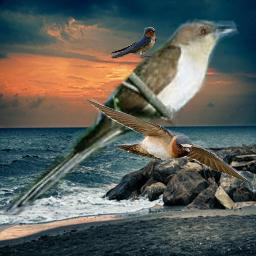Cuckoo: (0, 18, 243, 224)
Swallow: (82, 95, 255, 184), (102, 27, 157, 59)
